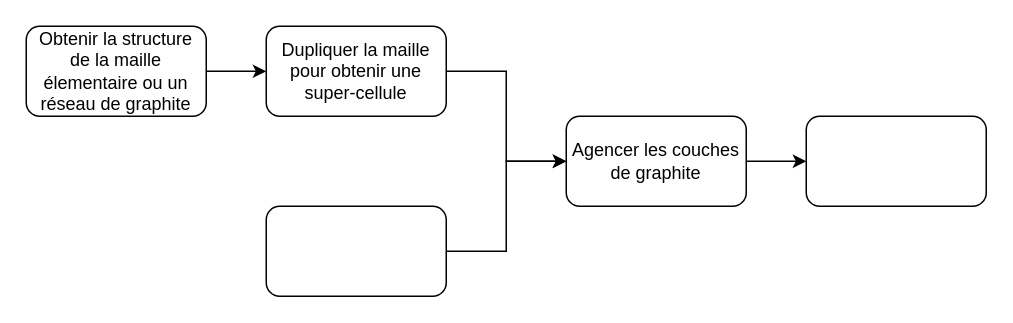
This 1013x323 diagram has some shape labels left out. The shapes that lost their labels are listed below. From the top down, each one's box as (x1, y1, x2, y2) in pixels, then its label:
(805, 115, 986, 206): Disposer les molécules d'eau et ions
(265, 205, 446, 296): Obtenir la structure de la molécule d'eau
